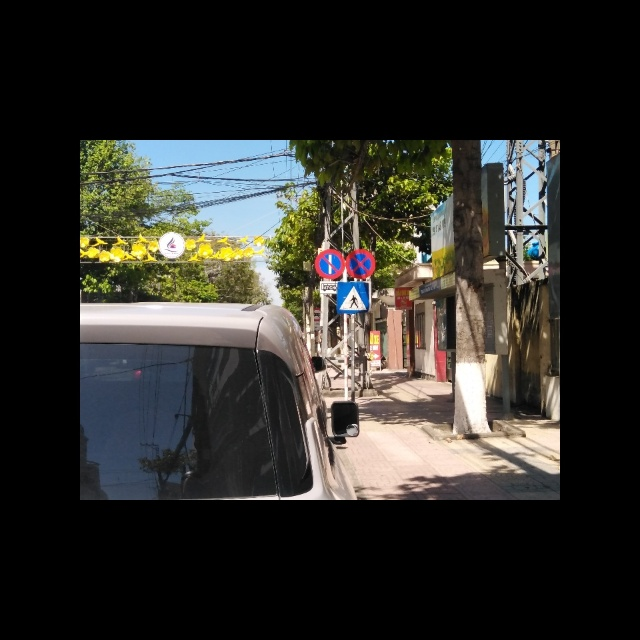Cấm dừng xe và đỗ xe: (345, 249, 377, 280)
Cấm đỗ xe ngày lẻ: (315, 248, 345, 279)
Đường dành cho người đi bộ: (337, 281, 371, 312)
